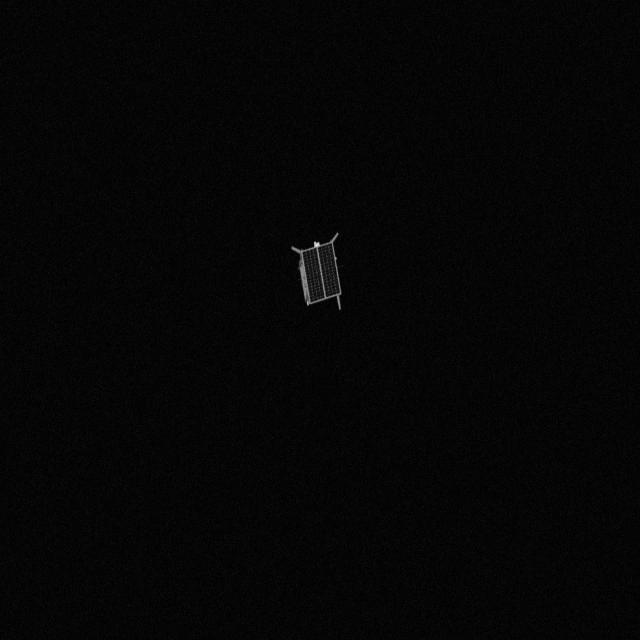medium_debris: (286, 230, 350, 312)
